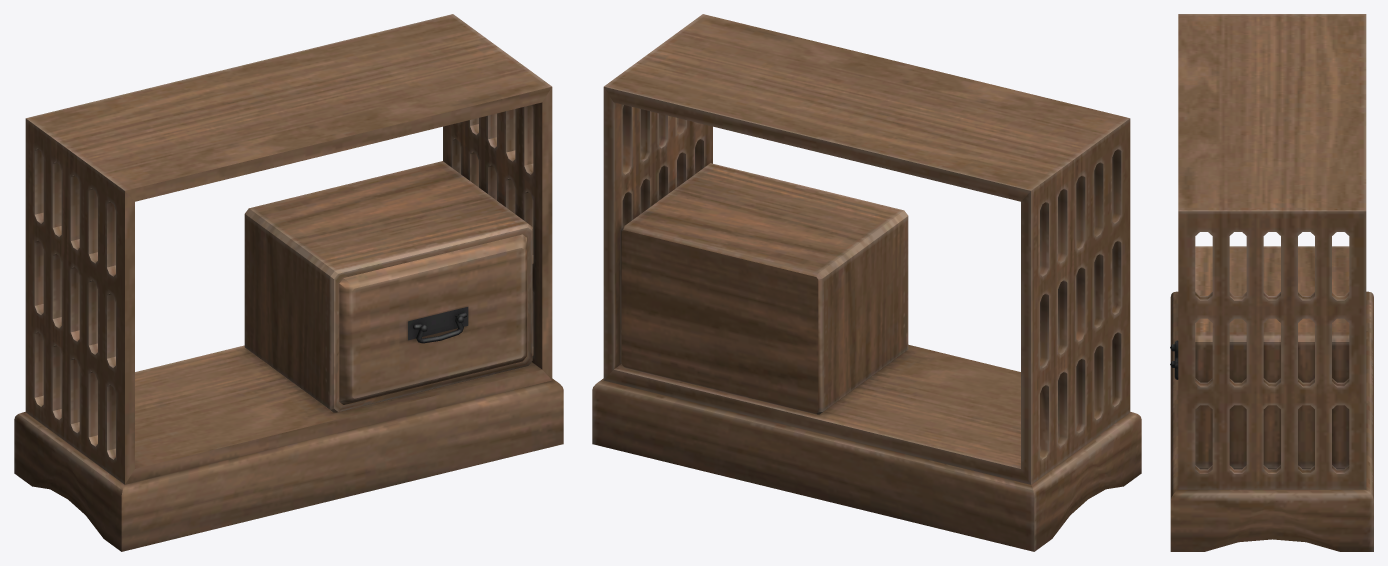
File: Shelf1.b.fbx
The picture shows the model from 3 angles, left to right: view 1: azimuth 30°, elevation 25°; view 2: azimuth 150°, elevation 25°; view 3: azimuth 270°, elevation 25°; orthographic projection. The views are drawn at different scales.
Visible parts, largest first — view 1: Group 0; view 2: Group 0; view 3: Group 0.
Boxes of the visible parts, left/top/right/bottom form: Group 0: left=14, top=14, right=563, bottom=551; Group 0: left=592, top=14, right=1141, bottom=551; Group 0: left=1170, top=14, right=1373, bottom=551.
Size of the model in its own units: 93.55 by 72.02 by 39.48.
Materials: 1 (1 with a texture image).
